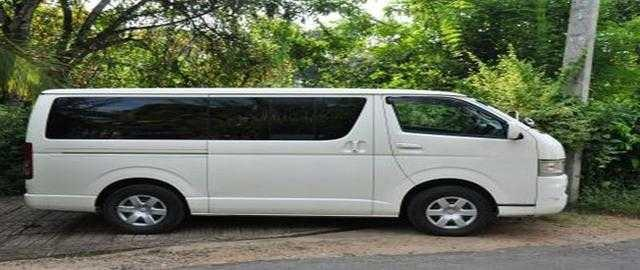bus: (12, 87, 552, 238)
